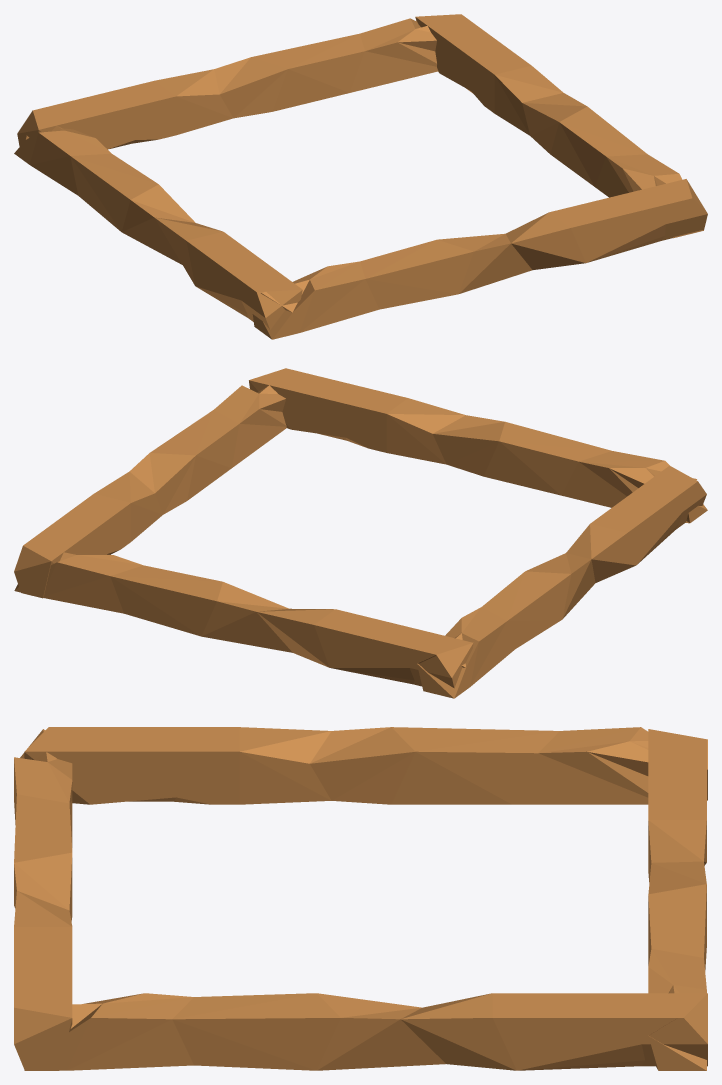
The model's file is WoodPlanks.fbx.
The picture shows the model from 3 angles, top to bottom: view 1: azimuth 30°, elevation 25°; view 2: azimuth 150°, elevation 25°; view 3: azimuth 270°, elevation 25°; orthographic projection. The views are drawn at different scales.
Parts seen in each view (by area): view 1: Stolb_Ratusha5_3, Stolb_Ratusha5_4, Stolb_Ratusha5_1, Stolb_Ratusha5_2; view 2: Stolb_Ratusha5_4, Stolb_Ratusha5_3, Stolb_Ratusha5_2, Stolb_Ratusha5_1; view 3: Stolb_Ratusha5_2, Stolb_Ratusha5_1, Stolb_Ratusha5_3, Stolb_Ratusha5_4.
Boxes of the visible parts, bbox=[...] form: Stolb_Ratusha5_3: bbox=[252, 179, 707, 339]; Stolb_Ratusha5_4: bbox=[17, 18, 437, 149]; Stolb_Ratusha5_1: bbox=[14, 125, 302, 329]; Stolb_Ratusha5_2: bbox=[415, 14, 703, 238]; Stolb_Ratusha5_4: bbox=[14, 552, 473, 688]; Stolb_Ratusha5_3: bbox=[249, 368, 707, 523]; Stolb_Ratusha5_2: bbox=[14, 385, 286, 598]; Stolb_Ratusha5_1: bbox=[417, 465, 706, 698]; Stolb_Ratusha5_2: bbox=[24, 993, 707, 1070]; Stolb_Ratusha5_1: bbox=[24, 727, 707, 804]; Stolb_Ratusha5_3: bbox=[14, 729, 72, 1070]; Stolb_Ratusha5_4: bbox=[648, 729, 706, 1070].
Bounding box in the file's own units: 1413 × 127 × 1425.
